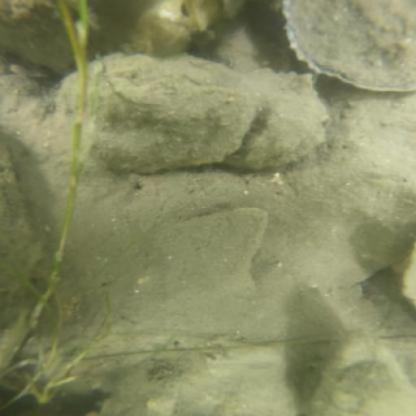Oyster- Indeterminate: (307, 340, 416, 416)
Oyster-Closed: (87, 53, 251, 173), (98, 343, 289, 416), (1, 138, 47, 361), (230, 73, 327, 169), (1, 0, 74, 73)
